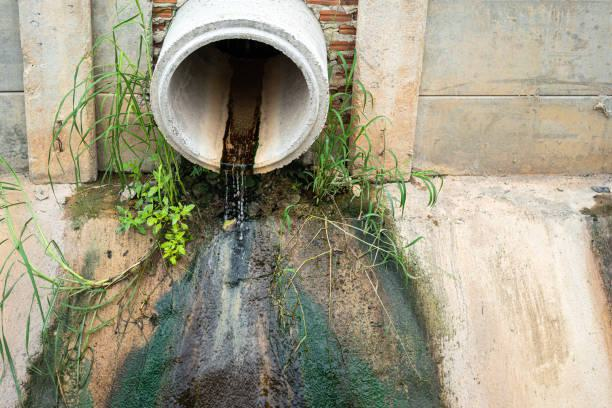Corrosion: (19, 183, 449, 408), (579, 195, 612, 408), (219, 65, 265, 176)
Exposed reinforcement: (592, 102, 609, 119)
